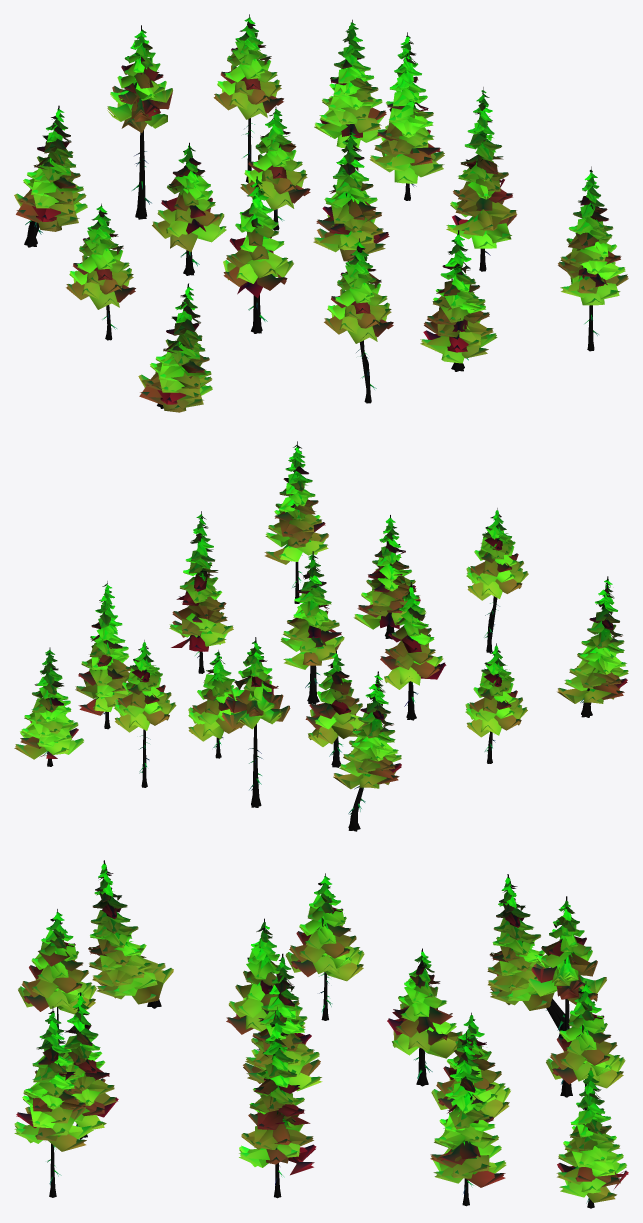
Rendered from TreeWithLOD.fbx.
3 views of the same model, one above another, from view 1: azimuth 30°, elevation 25°; view 2: azimuth 150°, elevation 25°; view 3: azimuth 270°, elevation 25° (orthographic). The views are drawn at different scales.
Parts seen in each view (by area): view 1: Tree_2.002, Tree_5.002, Tree_12.002, Tree_13.002, Tree_10.002, Tree_15.002, Tree_3.002, Tree_4.002, Tree_14.002, Tree_8.002, Tree_11.002, Tree_9 (+33 smaller); view 2: Tree_12.002, Tree_4.002, Tree_5.002, Tree_11.002, Tree_14.002, Tree_3.002, Tree_9, Tree_1.002, Tree_15.002, Tree_13, Tree_7, Tree_10.002 (+31 smaller); view 3: Tree_4.002, Tree_15.002, Tree_2, Tree_3.002, Tree_2.002, Tree_12.002, Tree_1.002, Tree_3.001, Tree_5.002, Tree_4, Tree_14.002, Tree_10.002 (+32 smaller).
Part boxes in pixels (x1,y1,x2,y2): Tree_2.002: (370, 50, 444, 192); Tree_5.002: (214, 40, 283, 168); Tree_12.002: (324, 263, 393, 392); Tree_13.002: (16, 118, 87, 239); Tree_10.002: (152, 147, 226, 272); Tree_15.002: (139, 297, 212, 412); Tree_3.002: (446, 106, 516, 259); Tree_4.002: (558, 183, 628, 337); Tree_14.002: (66, 228, 135, 333); Tree_8.002: (420, 244, 496, 363); Tree_11.002: (224, 179, 293, 324); Tree_9: (107, 25, 172, 219); Tree_12.002: (466, 529, 528, 646); Tree_4.002: (265, 457, 328, 592); Tree_5.002: (114, 660, 176, 779); Tree_11.002: (380, 585, 442, 712); Tree_14.002: (465, 664, 527, 756); Tree_3.002: (169, 529, 233, 662); Tree_9: (222, 637, 289, 807); Tree_1.002: (14, 657, 83, 759); Tree_15.002: (557, 587, 628, 715); Tree_13: (334, 671, 401, 831); Tree_7: (281, 551, 344, 704); Tree_10.002: (306, 667, 367, 759); Tree_4.002: (15, 1025, 93, 1188); Tree_15.002: (89, 874, 173, 1004); Tree_2: (430, 1031, 505, 1206); Tree_3.002: (239, 1024, 315, 1185); Tree_2.002: (430, 1047, 505, 1198); Tree_12.002: (18, 930, 96, 1044); Tree_1.002: (557, 1082, 628, 1202); Tree_3.001: (239, 1013, 315, 1189); Tree_5.002: (546, 1003, 624, 1109); Tree_4: (14, 1006, 92, 1197); Tree_14.002: (285, 883, 364, 1014); Tree_10.002: (393, 950, 462, 1078).
Bounding box in the file's own units: 7470 × 2946 × 8256.
